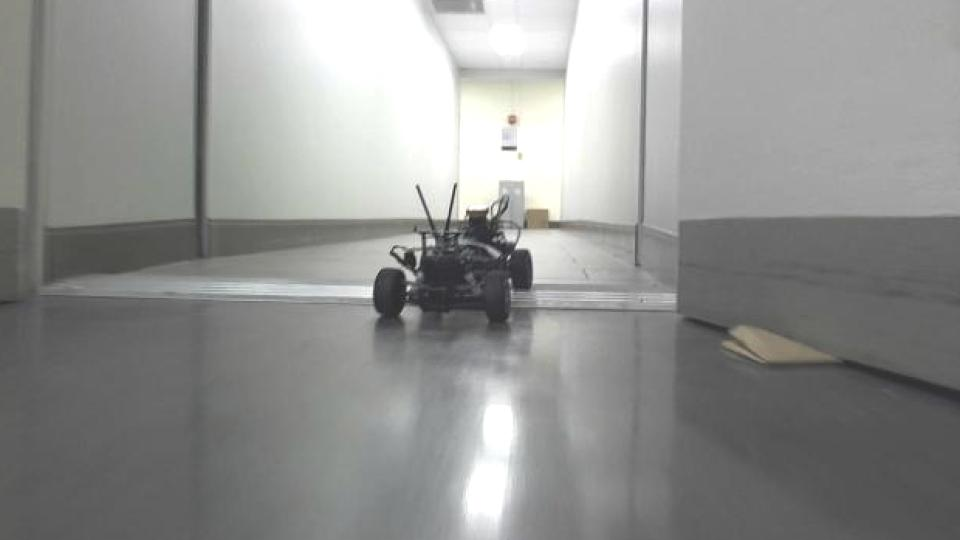car: (370, 180, 537, 327)
